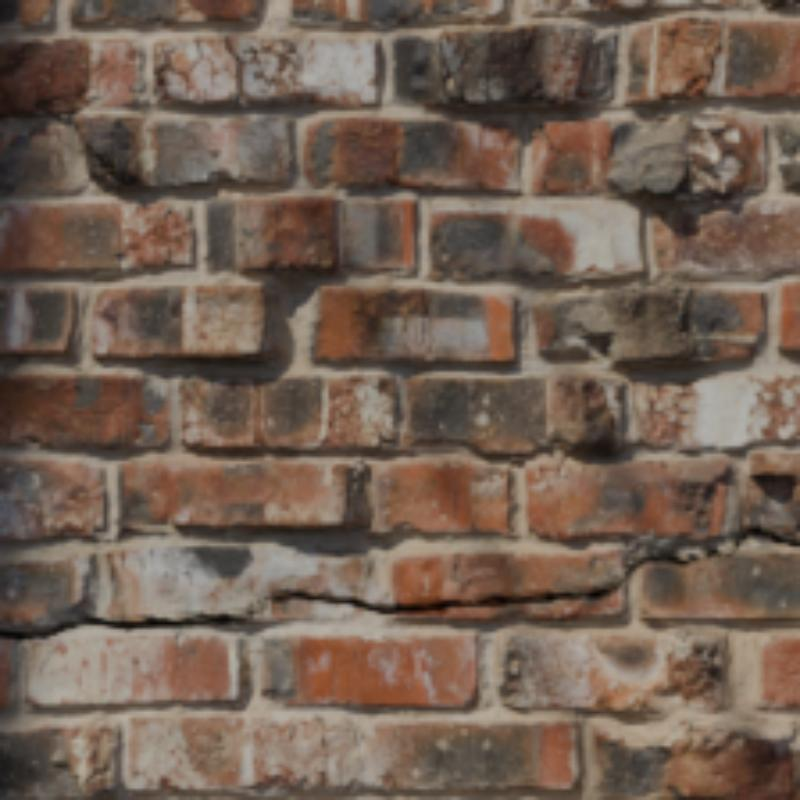crack: (0, 525, 796, 639), (221, 36, 243, 104)
